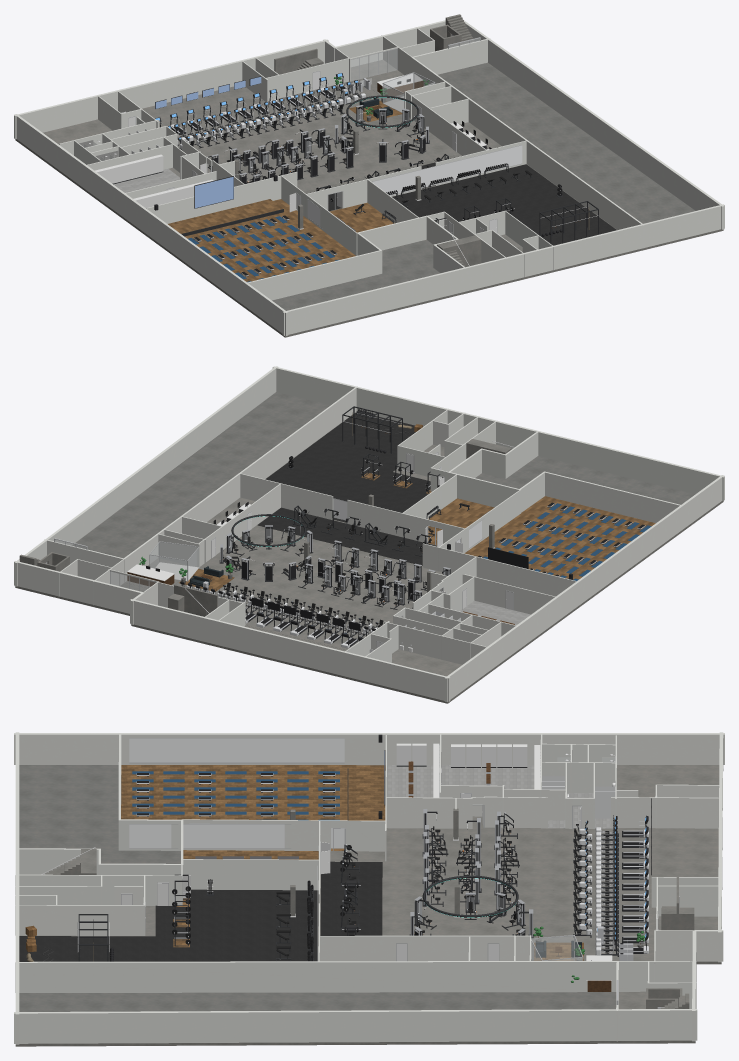
Rendered from studio-schnittmodell.glb.
3 views of the same model, one above another, from view 1: azimuth 30°, elevation 25°; view 2: azimuth 150°, elevation 25°; view 3: azimuth 270°, elevation 25° (orthographic). The views are drawn at different scales.
Parts seen in each view (by area): view 1: Waende.001, Bodenplatte, Boden_Freihantel, Boden_Kursraum, Boden_Zirkel, Boden_Ausdauer, Boden_Gerätetraining, Buehne, Spiegelwand_Freihantel, Treppen, Boden_Turnecke, Glasfassade_Eingang.001 (+9 smaller); view 2: Waende.001, Bodenplatte, Boden_Kursraum, Boden_Freihantel, Boden_Gerätetraining, Boden_Zirkel, Boden_Turnecke, Boden_Basics, Boden_Ausdauer, Treppen, Messkabine, Boden_Lady Gym (+5 smaller); view 3: Waende.001, Bodenplatte, Boden_Kursraum, Boden_Gerätetraining, Boden_Freihantel, Boden_Ausdauer, Spiegelwand_Kurs_W, Boden_Basics, Spiegelwand_Kurs_O, Boden_Umkleiden & Duschen, Boden_Zirkel, Boden_Turnecke (+11 smaller).
Part boxes in pixels (x1=…): Waende.001: x1=14, y1=20, x2=724, y2=335; Bodenplatte: x1=15, y1=62, x2=723, y2=337; Boden_Freihantel: x1=392, y1=164, x2=588, y2=224; Boden_Kursraum: x1=184, y1=199, x2=355, y2=281; Boden_Zirkel: x1=309, y1=114, x2=456, y2=175; Boden_Ausdauer: x1=170, y1=83, x2=370, y2=154; Boden_Gerätetraining: x1=204, y1=129, x2=368, y2=191; Buehne: x1=168, y1=176, x2=283, y2=236; Spiegelwand_Freihantel: x1=372, y1=145, x2=522, y2=195; Treppen: x1=274, y1=14, x2=481, y2=267; Boden_Turnecke: x1=525, y1=209, x2=616, y2=245; Glasfassade_Eingang.001: x1=350, y1=37, x2=480, y2=80; Waende.001: x1=14, y1=366, x2=724, y2=701; Bodenplatte: x1=15, y1=392, x2=723, y2=703; Boden_Kursraum: x1=464, y1=496, x2=655, y2=579; Boden_Freihantel: x1=265, y1=450, x2=430, y2=522; Boden_Gerätetraining: x1=281, y1=549, x2=445, y2=623; Boden_Zirkel: x1=200, y1=527, x2=344, y2=595; Boden_Turnecke: x1=305, y1=413, x2=415, y2=471; Boden_Basics: x1=257, y1=507, x2=436, y2=565; Boden_Ausdauer: x1=192, y1=584, x2=384, y2=650; Treppen: x1=19, y1=439, x2=514, y2=616; Messkabine: x1=149, y1=541, x2=199, y2=581; Boden_Lady Gym: x1=428, y1=498, x2=494, y2=545; Waende.001: x1=14, y1=732, x2=724, y2=1044; Bodenplatte: x1=15, y1=765, x2=723, y2=1046; Boden_Kursraum: x1=121, y1=765, x2=385, y2=850; Boden_Gerätetraining: x1=388, y1=829, x2=553, y2=909; Boden_Freihantel: x1=155, y1=889, x2=318, y2=961; Boden_Ausdauer: x1=552, y1=830, x2=652, y2=958; Spiegelwand_Kurs_W: x1=129, y1=738, x2=344, y2=763; Boden_Basics: x1=320, y1=861, x2=382, y2=935; Spiegelwand_Kurs_O: x1=129, y1=824, x2=344, y2=848; Boden_Umkleiden & Duschen: x1=387, y1=765, x2=614, y2=828; Boden_Zirkel: x1=388, y1=909, x2=552, y2=960; Boden_Turnecke: x1=19, y1=936, x2=155, y2=961.
Size of the model in its own units: 55.9 by 5.45 by 59.57.
Materials: 34 (10 with a texture image).
